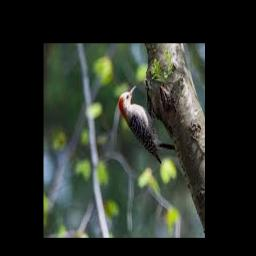Woodpecker: (119, 84, 176, 163)
